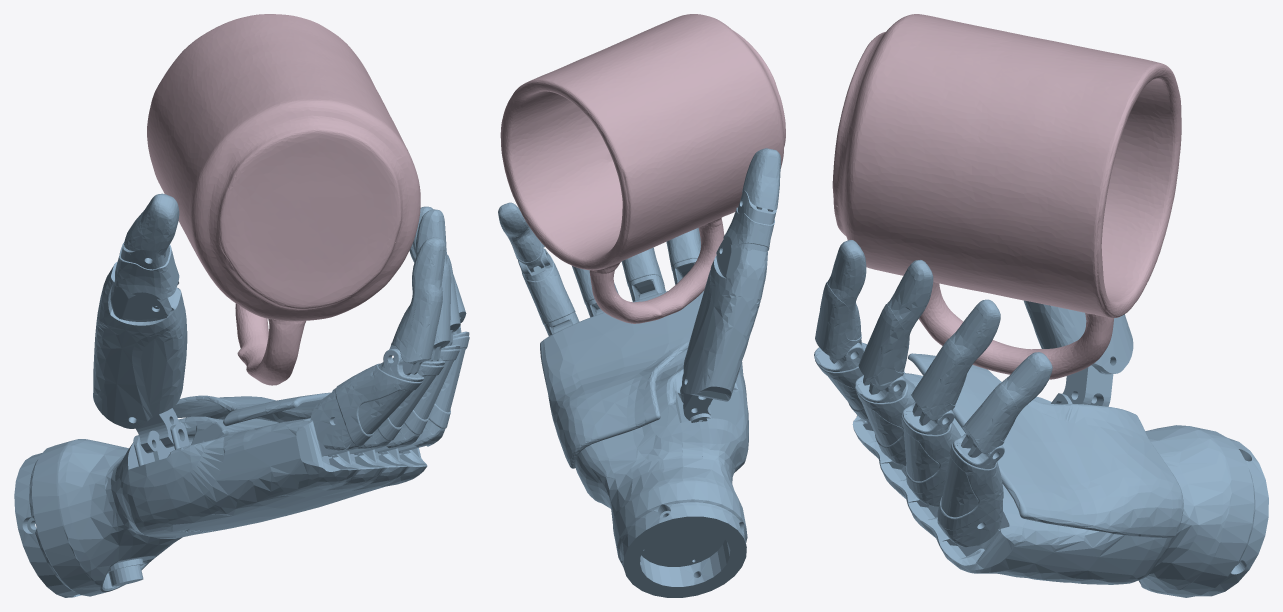
3 renders of one model, left to right at view 1: azimuth 30°, elevation 25°; view 2: azimuth 150°, elevation 25°; view 3: azimuth 270°, elevation 25°, orthographic. The views are drawn at different scales.
Parts seen in each view (by area): view 1: world, obj_mesh_grasp_0.obj; view 2: world, obj_mesh_grasp_0.obj; view 3: obj_mesh_grasp_0.obj, world.
Boxes of the visible parts, x1,y1,x2,y2 form: world: (14, 193, 469, 597); obj_mesh_grasp_0.obj: (147, 14, 420, 385); world: (498, 148, 780, 597); obj_mesh_grasp_0.obj: (500, 14, 785, 323); obj_mesh_grasp_0.obj: (832, 14, 1181, 379); world: (814, 240, 1268, 597).
Bounding box in the file's own units: 0.1454 × 0.2194 × 0.1463.
